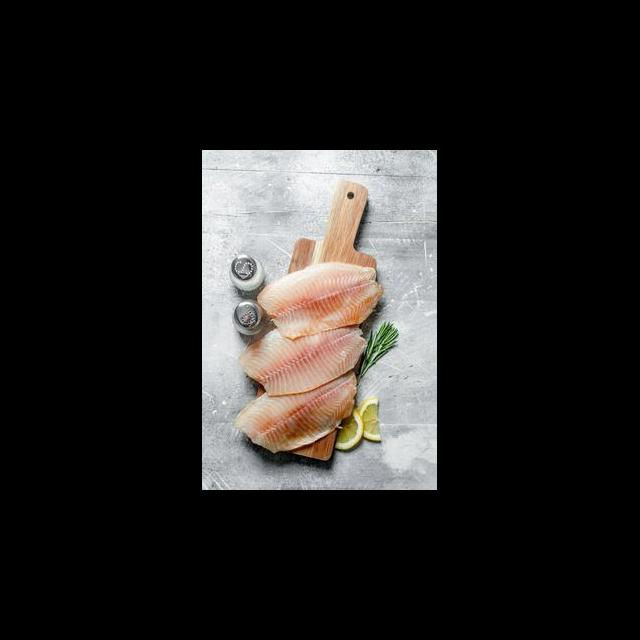fish: (252, 259, 388, 341)
